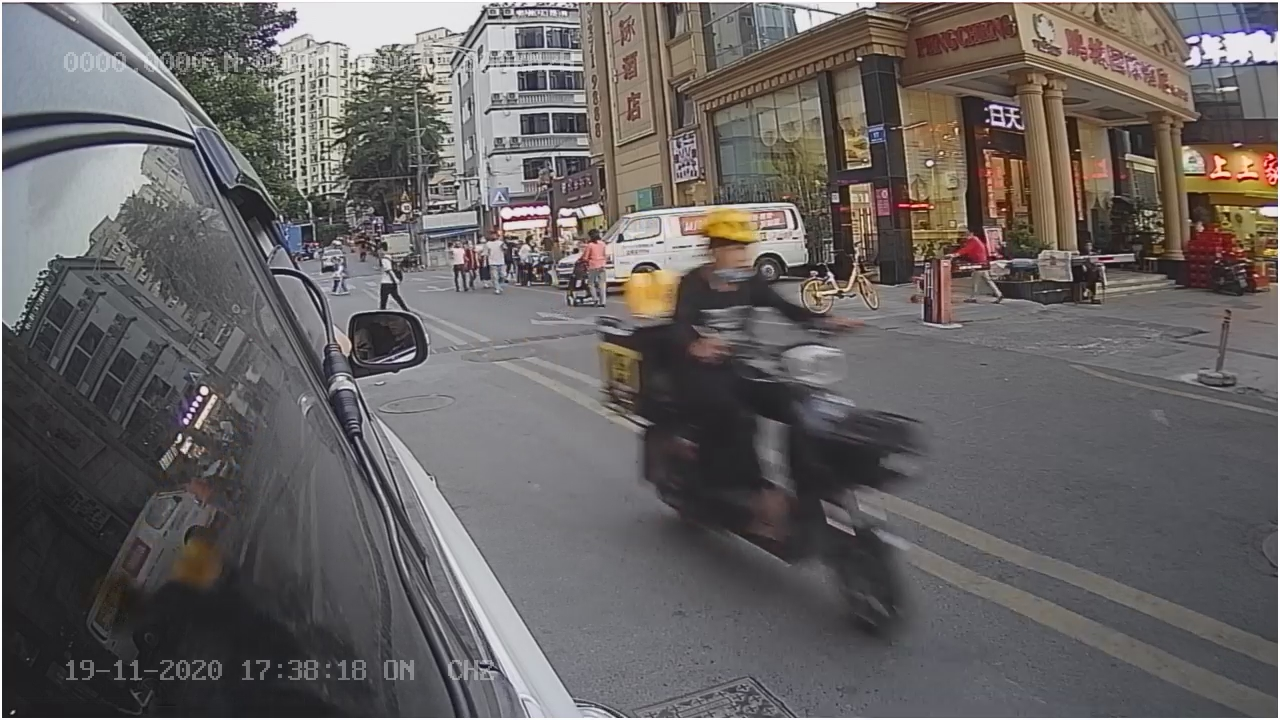person: (656, 210, 812, 330)
